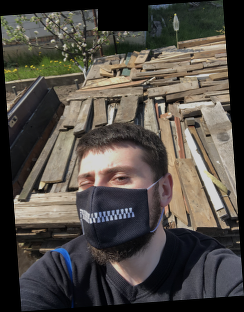with_mask: (76, 156, 153, 259)
